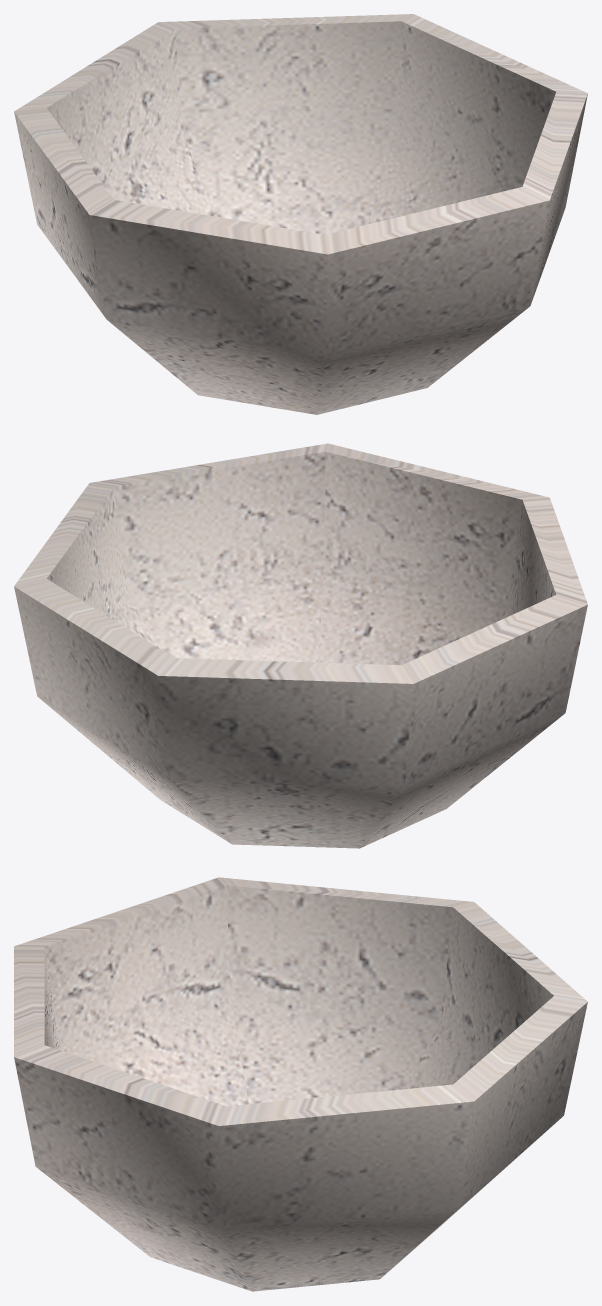
The model's file is Platohondo.fbx.
3 renders of one model, top to bottom at view 1: azimuth 30°, elevation 25°; view 2: azimuth 150°, elevation 25°; view 3: azimuth 270°, elevation 25°, orthographic. The views are drawn at different scales.
Visible parts, largest first — view 1: Cylinder.013; view 2: Cylinder.013; view 3: Cylinder.013.
Part boxes in pixels (<box>): Cylinder.013: <box>14,14,587,414</box>; Cylinder.013: <box>14,443,587,848</box>; Cylinder.013: <box>14,877,587,1291</box>.
Size of the model in its own units: 334 by 146 by 326.
1 material, 1 textured.
